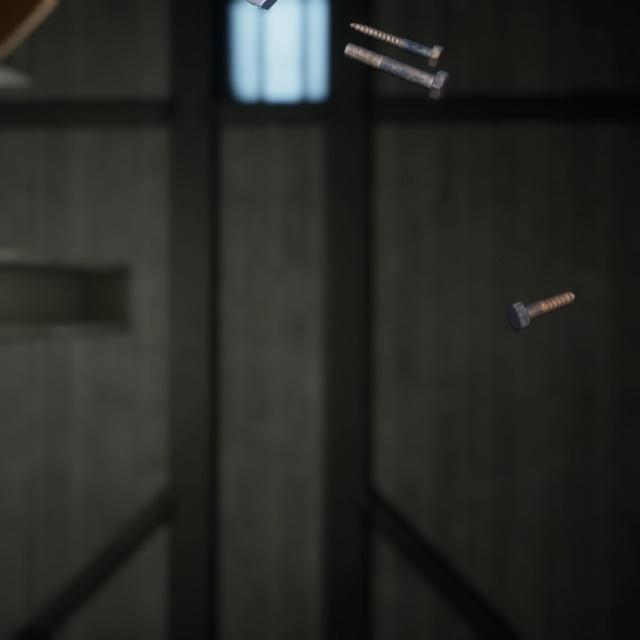bolt: (339, 29, 453, 94), (346, 10, 448, 63), (502, 269, 579, 318)
